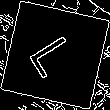L_NE: (25, 28, 85, 82)
